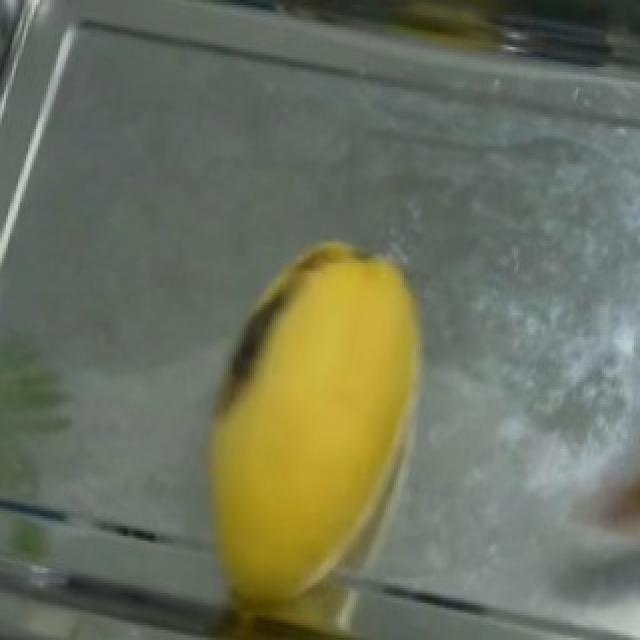fruit: (186, 208, 490, 603)
